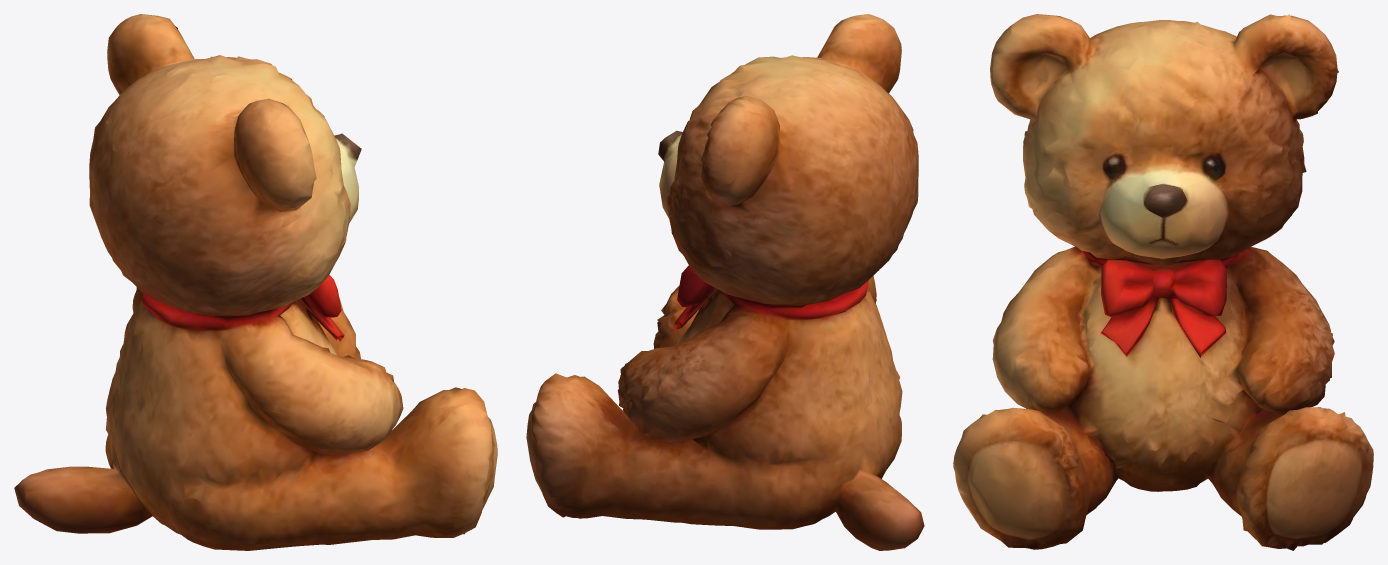
File: teddy.glb
3 renders of one model, left to right at view 1: azimuth 30°, elevation 25°; view 2: azimuth 150°, elevation 25°; view 3: azimuth 270°, elevation 25°, orthographic. The views are drawn at different scales.
Parts seen in each view (by area): view 1: tripo_node_6257a127-49b6-40c5-8f3e-0c5714a8899e; view 2: tripo_node_6257a127-49b6-40c5-8f3e-0c5714a8899e; view 3: tripo_node_6257a127-49b6-40c5-8f3e-0c5714a8899e.
Part boxes in pixels (left/top/right/bottom): tripo_node_6257a127-49b6-40c5-8f3e-0c5714a8899e: left=14, top=14, right=497, bottom=550; tripo_node_6257a127-49b6-40c5-8f3e-0c5714a8899e: left=526, top=14, right=924, bottom=550; tripo_node_6257a127-49b6-40c5-8f3e-0c5714a8899e: left=953, top=14, right=1373, bottom=550.
Bounding box in the file's own units: 0.8225 × 1 × 0.8424.
Materials: 1 (1 with a texture image).
